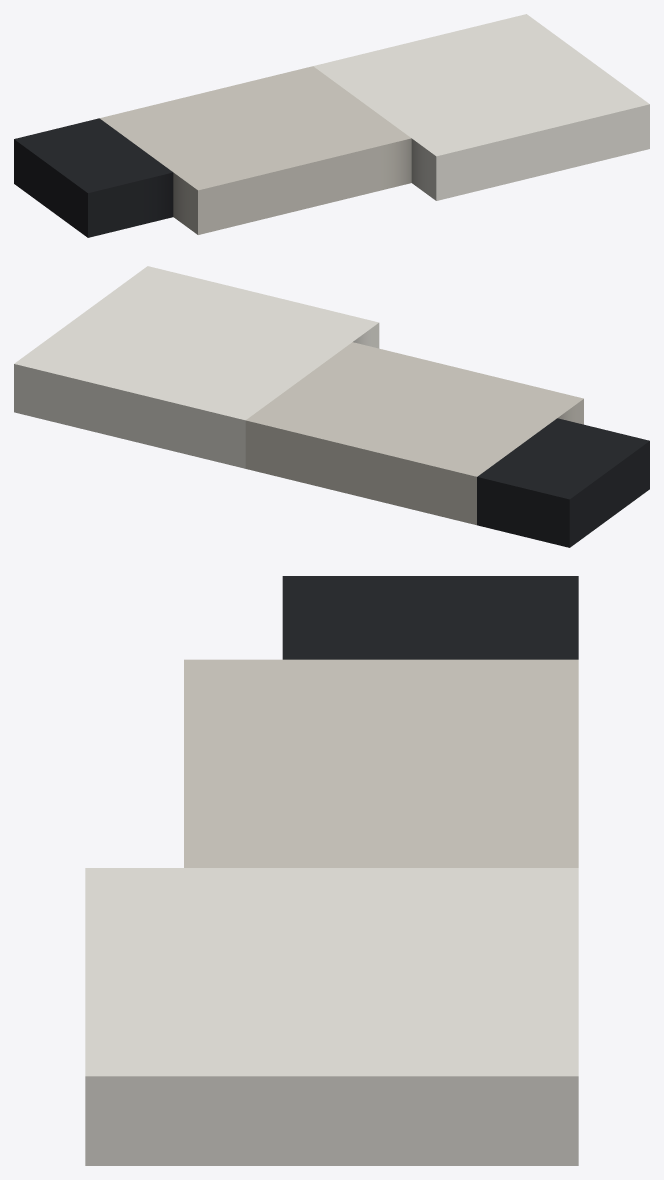
File: cm_wing_l.glb
The picture shows the model from 3 angles, top to bottom: view 1: azimuth 30°, elevation 25°; view 2: azimuth 150°, elevation 25°; view 3: azimuth 270°, elevation 25°; orthographic projection. The views are drawn at different scales.
Visible parts, largest first — view 1: cm_wing_l_body; view 2: cm_wing_l_body; view 3: cm_wing_l_body.
Boxes of the visible parts, x1,y1,x2,y2 form: cm_wing_l_body: (14, 14, 649, 237); cm_wing_l_body: (14, 266, 649, 547); cm_wing_l_body: (85, 576, 578, 1165).
Bounding box in the file's own units: 0.75 × 0.0625 × 0.3125.
1 material, 1 textured.
